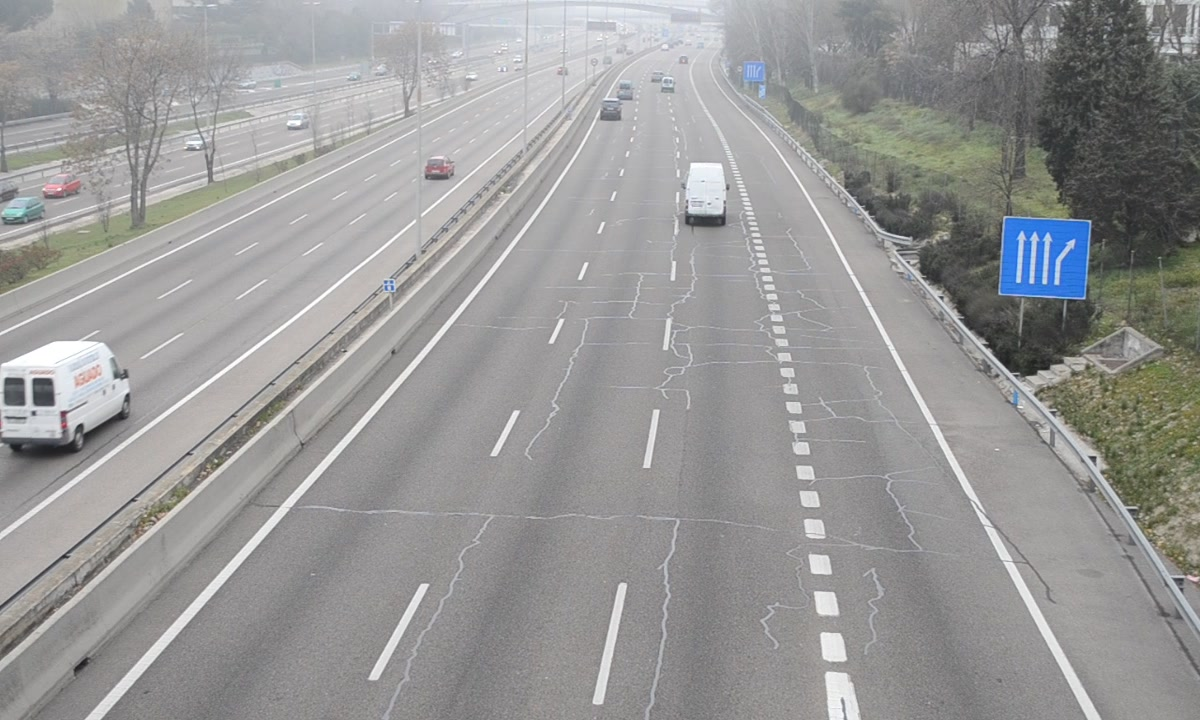car: (600, 98, 619, 121)
van: (685, 161, 729, 227)
